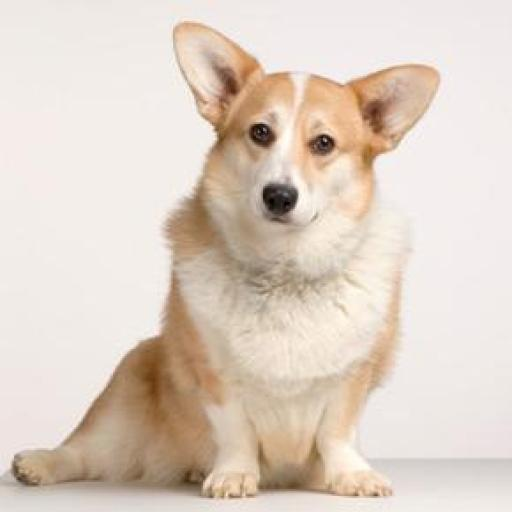dog_face: (172, 18, 442, 230)
